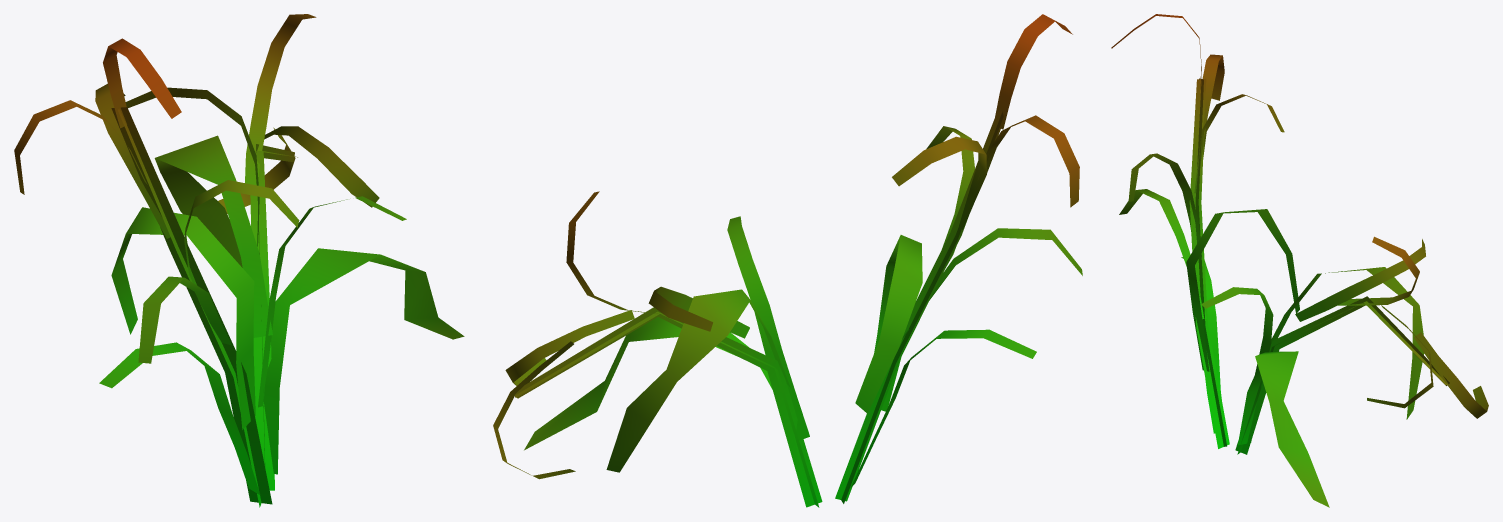
The model's file is Great Brome_LOD2_Var4_tjugaikia.fbx.
3 views of the same model, side by side, from view 1: azimuth 30°, elevation 25°; view 2: azimuth 150°, elevation 25°; view 3: azimuth 270°, elevation 25° (orthographic). The views are drawn at different scales.
Visible parts, largest first — view 1: _7a7d_Var4_LOD2; view 2: _7a7d_Var4_LOD2; view 3: _7a7d_Var4_LOD2.
Part boxes in pixels (x1,y1,x2,y2): _7a7d_Var4_LOD2: (14, 14, 464, 507); _7a7d_Var4_LOD2: (493, 14, 1082, 507); _7a7d_Var4_LOD2: (1111, 14, 1488, 507).
Size of the model in its own units: 25.07 by 24.69 by 22.58.
